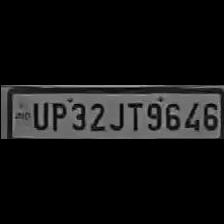2: (86, 100, 106, 132)
3: (66, 100, 86, 132)
4: (181, 100, 199, 132)
6: (162, 100, 180, 132), (200, 100, 218, 132)
9: (142, 100, 162, 132)
J: (108, 99, 125, 133)
P: (48, 100, 66, 132)
T: (124, 99, 142, 133)
U: (28, 99, 48, 130)
